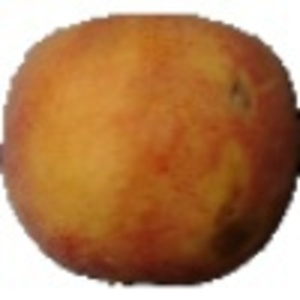pêssego: (1, 11, 300, 289)
